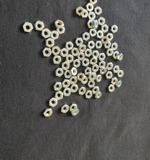nut: (22, 22, 33, 33), (34, 21, 45, 31), (41, 28, 51, 39), (42, 47, 52, 58), (55, 67, 64, 78), (55, 19, 64, 29), (48, 98, 58, 107), (53, 82, 63, 91), (61, 61, 70, 71), (60, 104, 70, 113), (76, 7, 85, 16), (94, 6, 103, 15), (46, 39, 55, 48), (50, 31, 59, 40), (65, 42, 74, 51), (52, 47, 61, 56), (71, 48, 80, 57), (70, 67, 79, 76), (62, 80, 71, 89), (55, 92, 64, 101), (52, 57, 62, 65), (43, 109, 53, 117), (88, 12, 97, 20), (75, 38, 83, 47), (60, 49, 68, 58), (88, 41, 96, 50), (70, 85, 79, 93), (69, 77, 78, 85), (78, 87, 87, 95), (77, 73, 85, 82), (82, 9, 89, 19), (83, 32, 90, 42), (86, 3, 94, 11), (57, 27, 65, 35), (89, 29, 97, 37), (66, 55, 74, 63), (85, 49, 93, 57), (95, 41, 103, 49), (78, 53, 86, 61), (73, 60, 81, 68), (82, 59, 90, 67), (63, 89, 71, 97), (108, 85, 116, 93), (69, 104, 77, 112), (89, 73, 97, 81), (85, 91, 93, 99), (111, 43, 119, 51), (102, 37, 110, 45), (106, 49, 114, 57), (92, 50, 100, 58), (92, 87, 100, 95), (99, 17, 106, 26), (87, 20, 94, 29), (82, 75, 89, 84), (98, 61, 107, 68), (112, 25, 119, 33), (102, 25, 109, 33), (97, 31, 104, 39), (79, 46, 87, 53), (85, 67, 92, 75), (98, 54, 106, 61), (107, 34, 114, 42), (111, 78, 119, 85), (92, 65, 99, 73), (106, 72, 113, 80), (95, 92, 103, 99), (71, 110, 80, 116), (113, 66, 120, 73), (107, 63, 114, 70), (104, 42, 111, 49), (90, 58, 97, 65), (100, 68, 107, 75), (118, 70, 125, 77), (65, 71, 71, 79), (88, 82, 96, 88), (94, 20, 99, 29), (117, 81, 123, 88), (118, 54, 124, 61), (96, 76, 102, 83), (114, 51, 119, 59), (90, 0, 97, 5)
